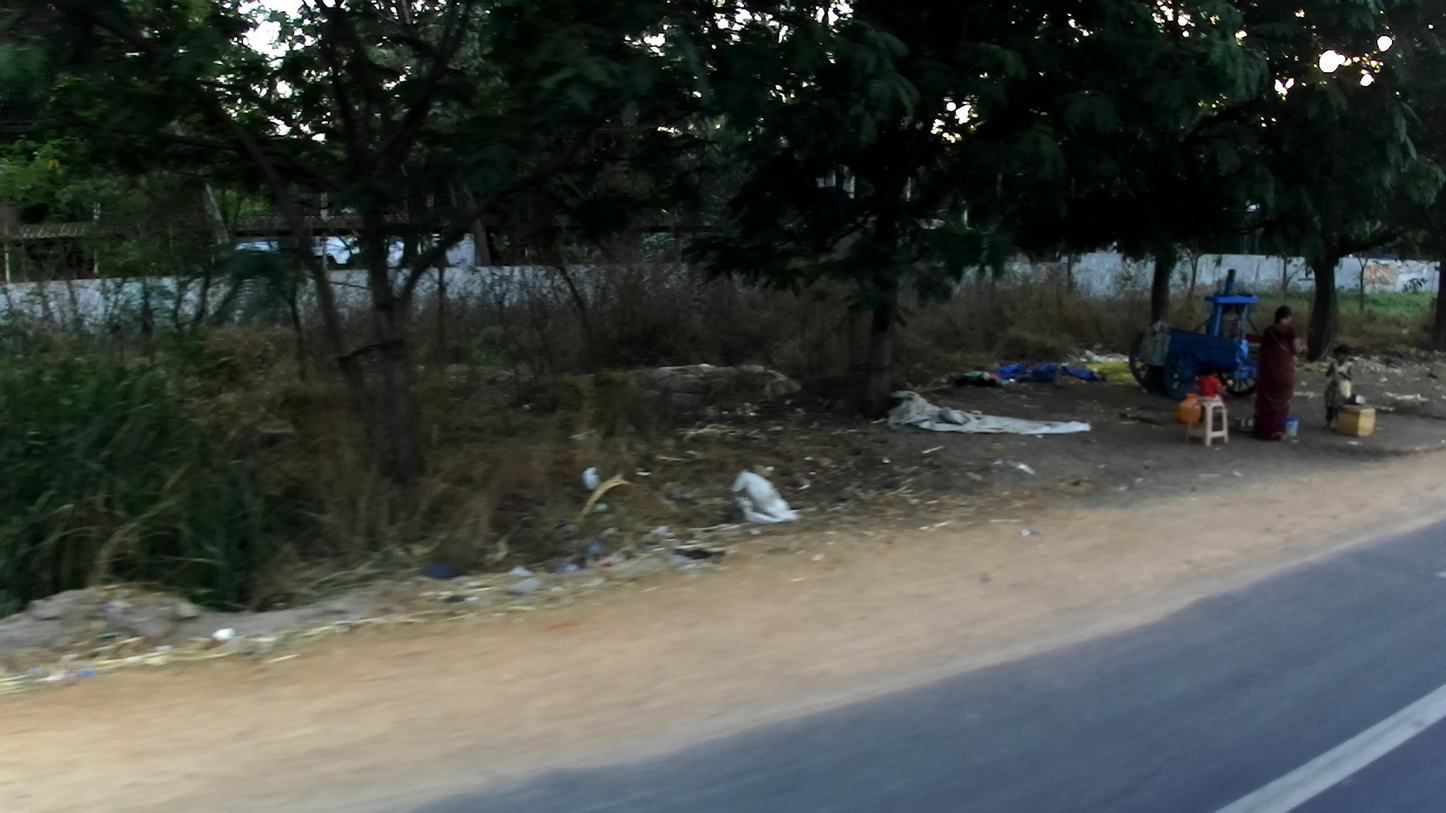person: (1248, 304, 1308, 449), (1322, 343, 1357, 428)
vehicle fallback: (1121, 260, 1266, 409)
